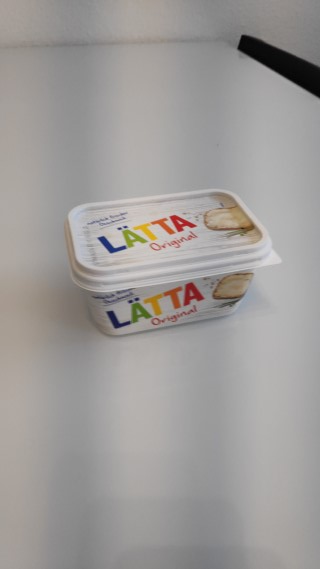laetta: (63, 187, 282, 336)
